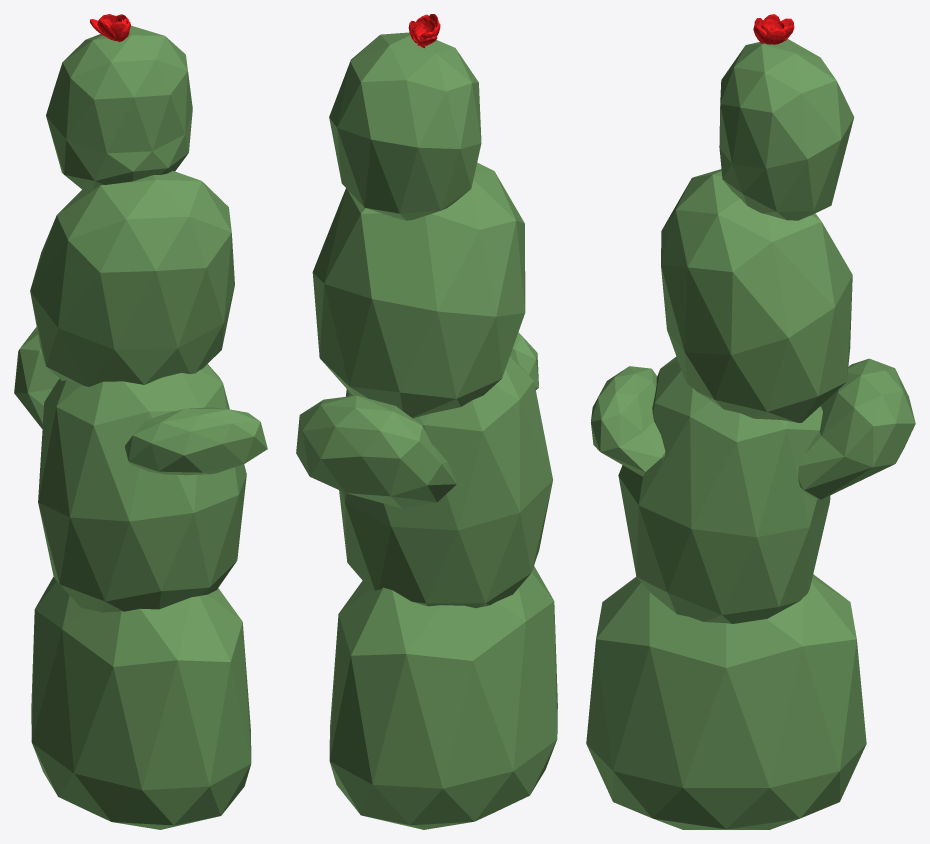
The model's file is Cactus_V08.fbx.
The picture shows the model from 3 angles, left to right: view 1: azimuth 30°, elevation 25°; view 2: azimuth 150°, elevation 25°; view 3: azimuth 270°, elevation 25°; orthographic projection. The views are drawn at different scales.
Parts seen in each view (by area): view 1: Cactus_V08; view 2: Cactus_V08; view 3: Cactus_V08.
Part boxes in pixels (bbox=[...]): Cactus_V08: bbox=[14, 14, 267, 829]; Cactus_V08: bbox=[296, 14, 557, 829]; Cactus_V08: bbox=[586, 14, 915, 829].
Bounding box in the file's own units: 30.75 × 124 × 46.46.
